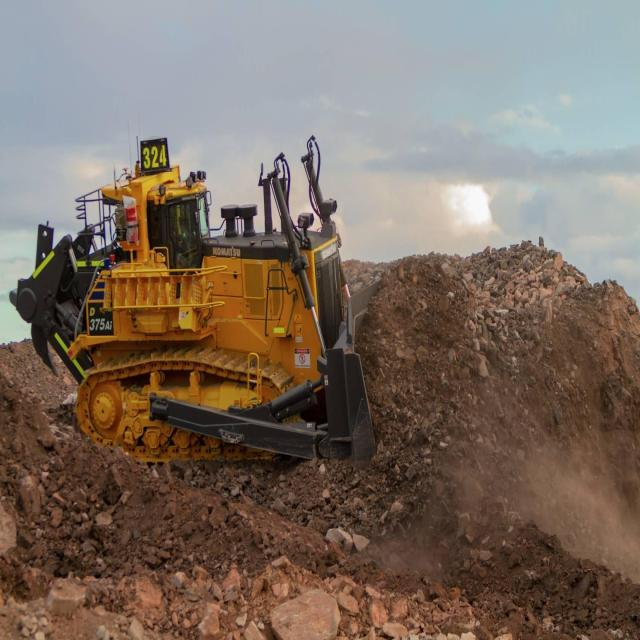buldozerpayloadergrader: (9, 143, 380, 504)
